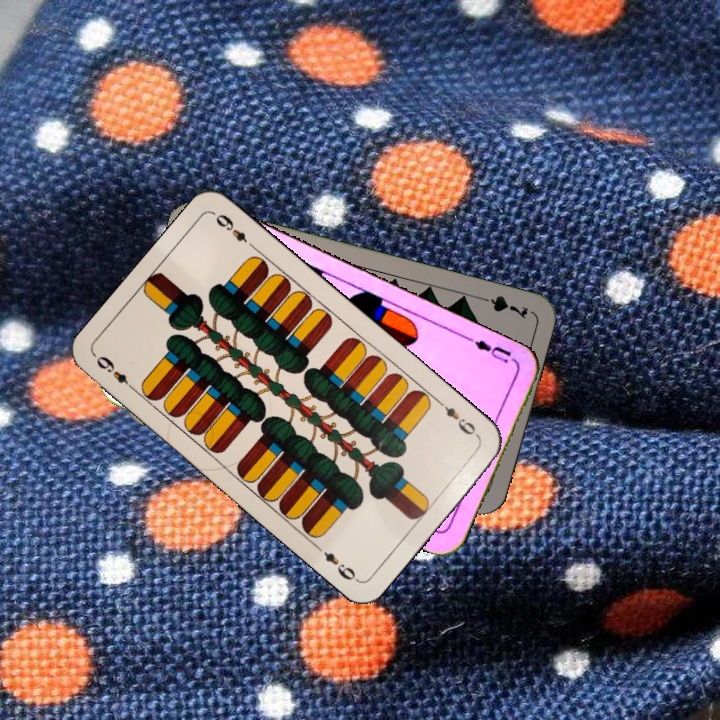E9: (433, 396, 482, 440), (92, 352, 140, 395)
EU: (465, 333, 514, 366)
G7: (473, 291, 531, 322)
